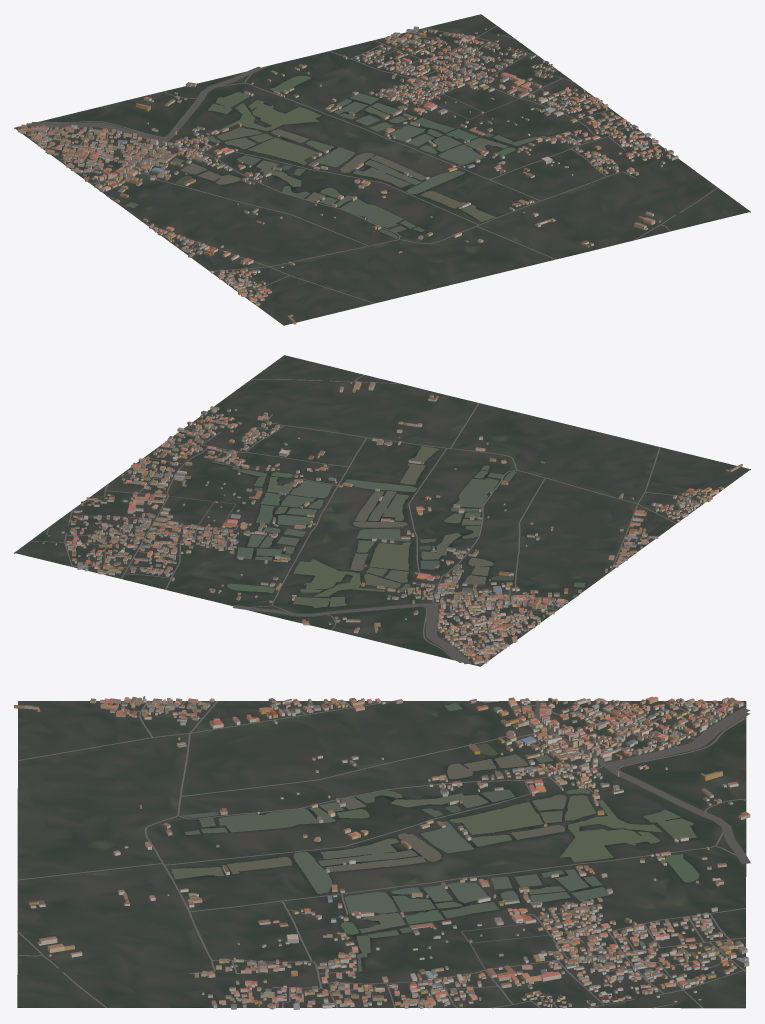
3 views of the same model, one above another, from view 1: azimuth 30°, elevation 25°; view 2: azimuth 150°, elevation 25°; view 3: azimuth 270°, elevation 25° (orthographic). The views are drawn at different scales.
Visible parts, largest first — view 1: ground, buildings, water, roads; view 2: ground, buildings, water, roads; view 3: ground, buildings, water, roads.
Boxes of the visible parts, left/top/right/bottom form: ground: left=14, top=14, right=750, bottom=325; buildings: left=18, top=26, right=678, bottom=324; water: left=107, top=76, right=562, bottom=238; roads: left=17, top=25, right=717, bottom=303; ground: left=14, top=355, right=750, bottom=666; buildings: left=42, top=381, right=742, bottom=664; water: left=212, top=446, right=585, bottom=607; roads: left=30, top=374, right=707, bottom=665; ground: left=17, top=701, right=746, bottom=1008; buildings: left=14, top=696, right=750, bottom=1009; water: left=171, top=701, right=699, bottom=972; roads: left=17, top=700, right=750, bottom=1008.
Bounding box in the file's own units: 1414 × 23.63 × 1418.
